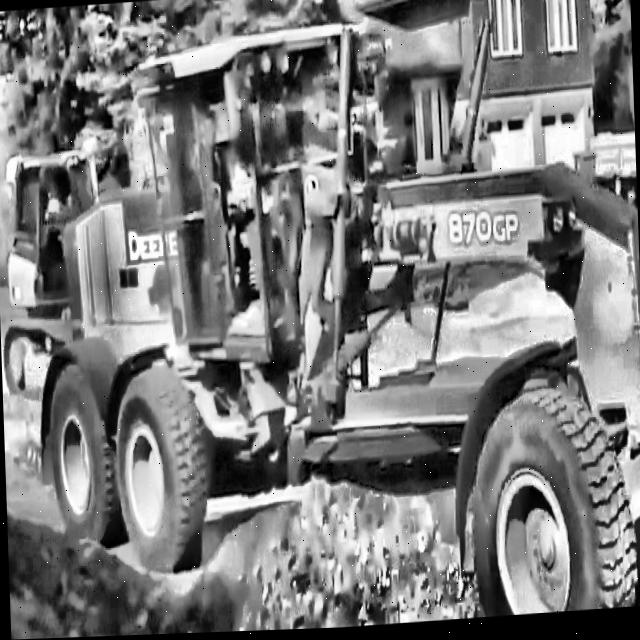buldozerpayloadergrader: (29, 4, 640, 639)
